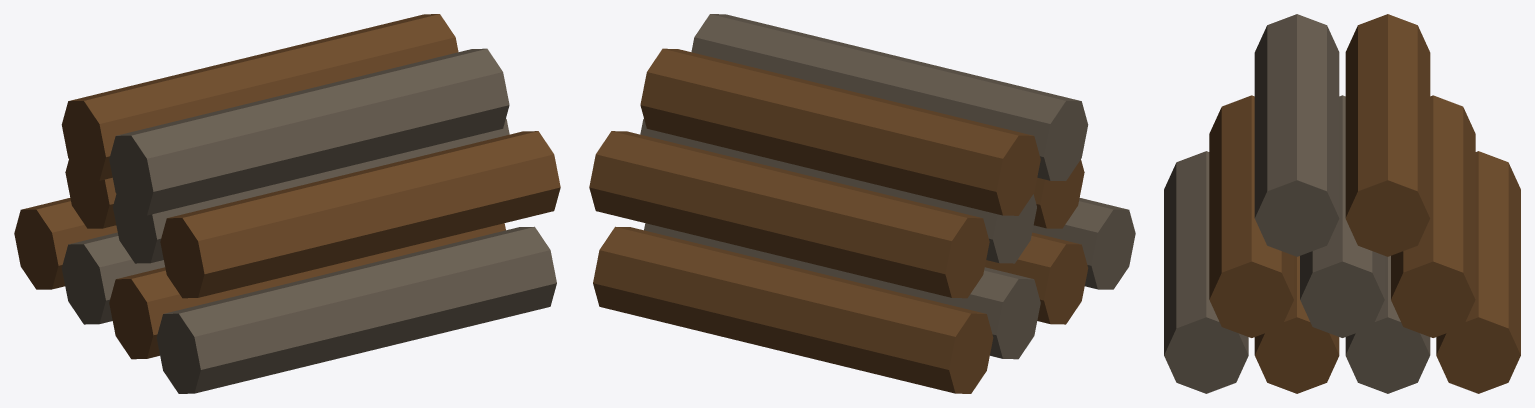
Rendered from Node_WoodPile.fbx.
The picture shows the model from 3 angles, left to right: view 1: azimuth 30°, elevation 25°; view 2: azimuth 150°, elevation 25°; view 3: azimuth 270°, elevation 25°; orthographic projection. The views are drawn at different scales.
Visible parts, largest first — view 1: Node_WoodPile; view 2: Node_WoodPile; view 3: Node_WoodPile.
Part boxes in pixels (bbox=[...]): Node_WoodPile: bbox=[14, 14, 560, 393]; Node_WoodPile: bbox=[589, 14, 1135, 393]; Node_WoodPile: bbox=[1164, 14, 1520, 393].
Bounding box in the file's own units: 1.4 × 0.78 × 1.18.
